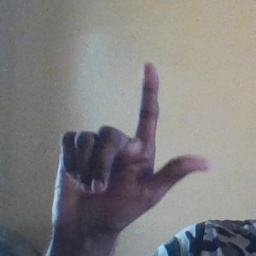L: (48, 61, 213, 235)
